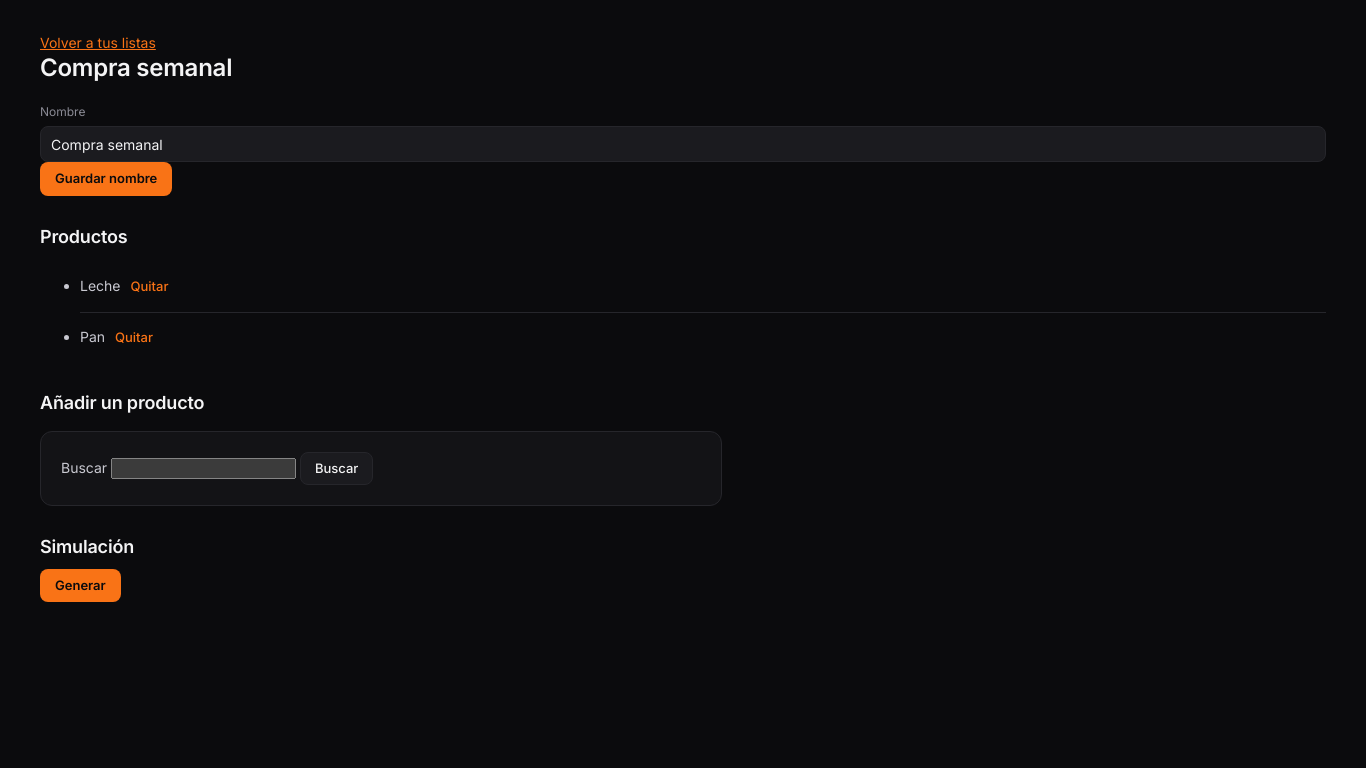
Scenario: ShoppingListDetailPage › Generar simulación › con todos los productos sin datos, avisa de que no hay suficiente información
Expected: the list item "Leche" is shown, [80,277,120,294]
Click the button "Generar" at (80, 586), box [40,569,121,602]
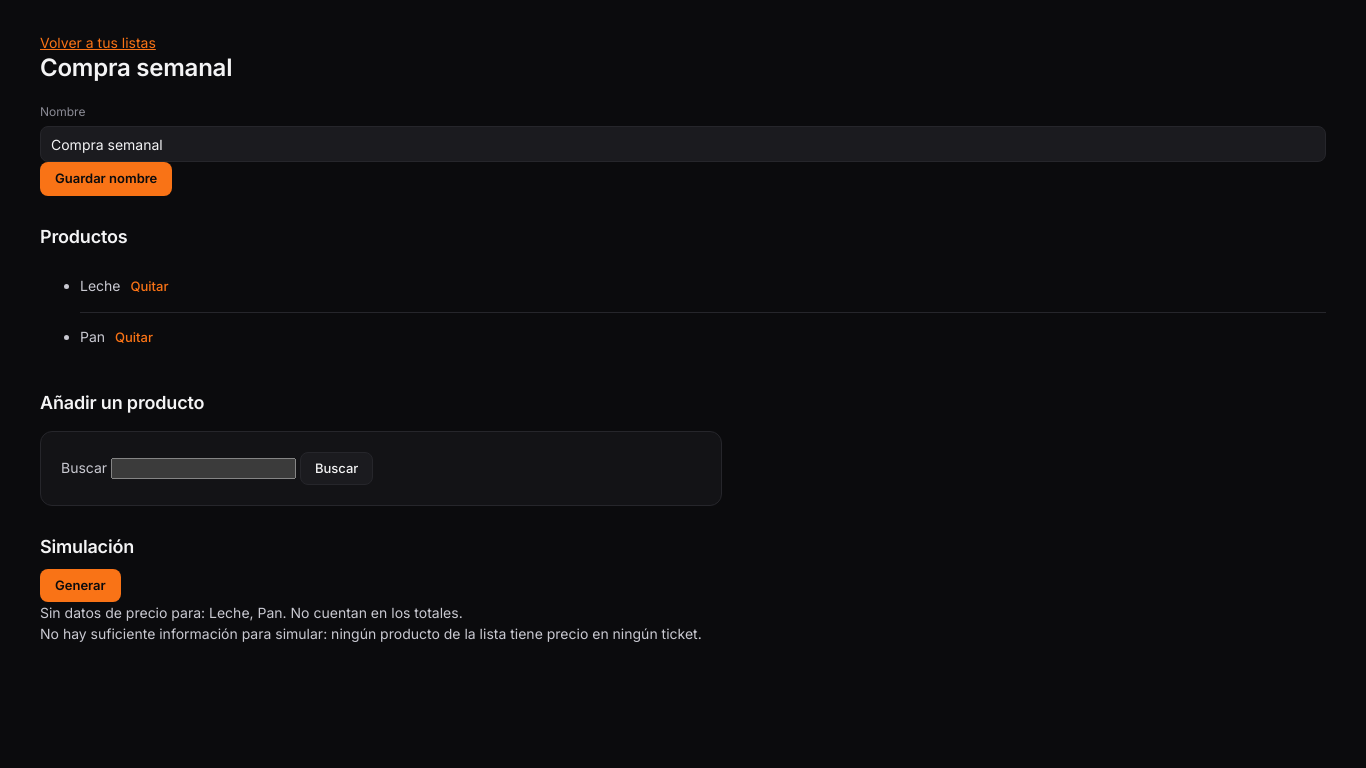
Expected: the text "No hay suficiente información para simular: ningún producto de la lista tiene precio en ningún ticket." is shown, [40,626,702,642]
